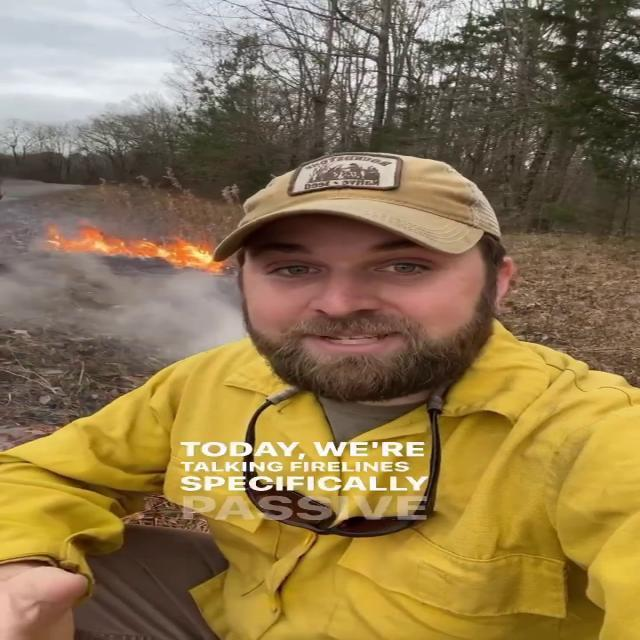Fire: (36, 215, 222, 269)
Smoke: (1, 251, 240, 358)
